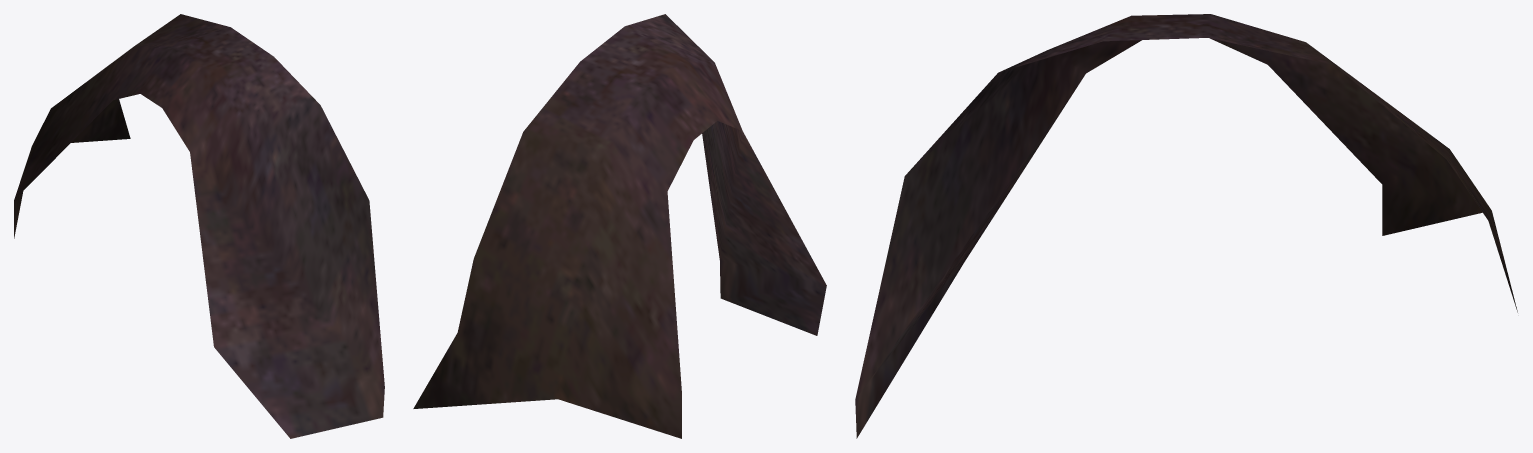
The model's file is part_12_wheelarc_r.fbx.
3 views of the same model, side by side, from view 1: azimuth 30°, elevation 25°; view 2: azimuth 150°, elevation 25°; view 3: azimuth 270°, elevation 25° (orthographic). The views are drawn at different scales.
Parts seen in each view (by area): view 1: part_12_wheelarc_r.001; view 2: part_12_wheelarc_r.001; view 3: part_12_wheelarc_r.001.
Part boxes in pixels (<box>): part_12_wheelarc_r.001: <box>14,14,384,438</box>; part_12_wheelarc_r.001: <box>413,14,826,438</box>; part_12_wheelarc_r.001: <box>855,14,1517,438</box>.
Bounding box in the file's own units: 30 × 50.01 × 75.92.
